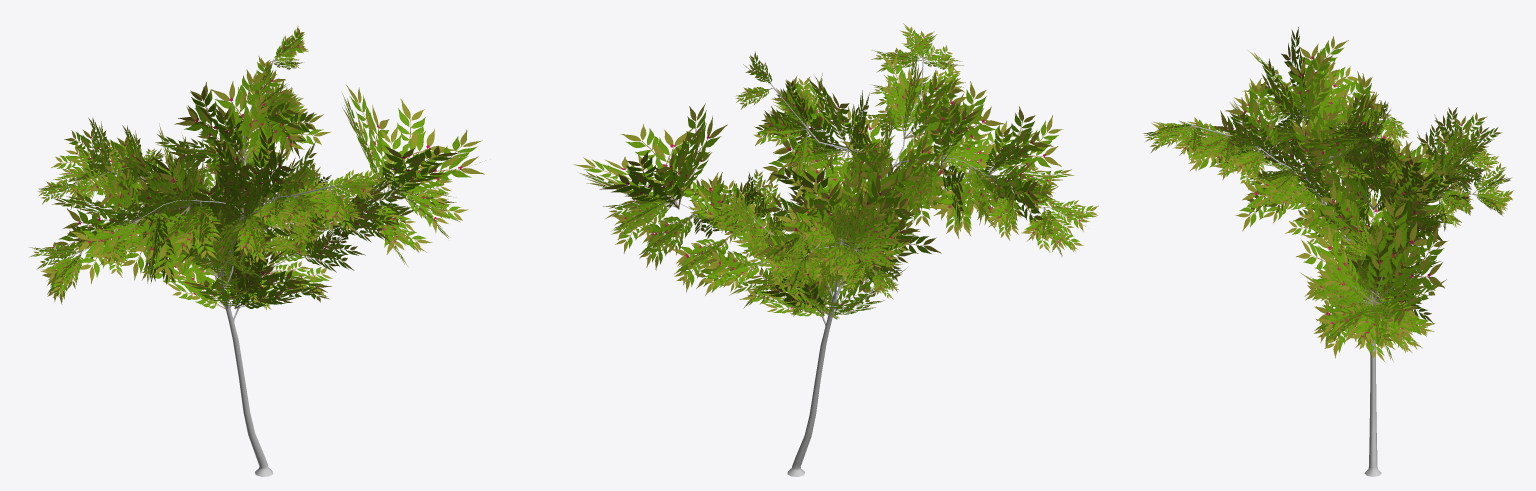
The model's file is EUGENIO_LISTO.fbx.
3 views of the same model, side by side, from view 1: azimuth 30°, elevation 25°; view 2: azimuth 150°, elevation 25°; view 3: azimuth 270°, elevation 25° (orthographic). The views are drawn at different scales.
Parts seen in each view (by area): view 1: eugenio_LOD0; view 2: eugenio_LOD0; view 3: eugenio_LOD0.
Boxes of the visible parts, left/top/right/bottom form: eugenio_LOD0: left=29, top=25, right=485, bottom=476; eugenio_LOD0: left=573, top=23, right=1098, bottom=476; eugenio_LOD0: left=1143, top=27, right=1513, bottom=476.
Size of what is drawn, in the model's own units: 2.78 by 2.3 by 2.
